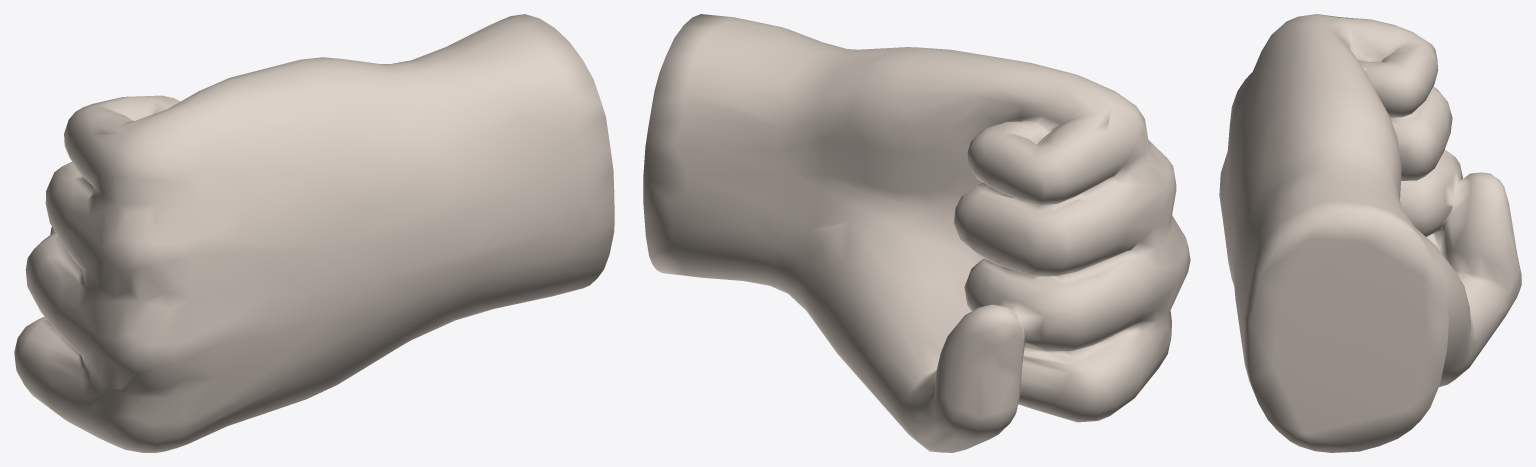
File: cursor_puño.glb
3 views of the same model, side by side, from view 1: azimuth 30°, elevation 25°; view 2: azimuth 150°, elevation 25°; view 3: azimuth 270°, elevation 25° (orthographic). The views are drawn at different scales.
Parts seen in each view (by area): view 1: hand_puño; view 2: hand_puño; view 3: hand_puño.
Boxes of the visible parts, <box> form: hand_puño: <box>14,14,614,452</box>; hand_puño: <box>643,14,1190,452</box>; hand_puño: <box>1219,14,1521,452</box>.
Bounding box in the file's own units: 0.0801 × 0.0552 × 0.0453.
